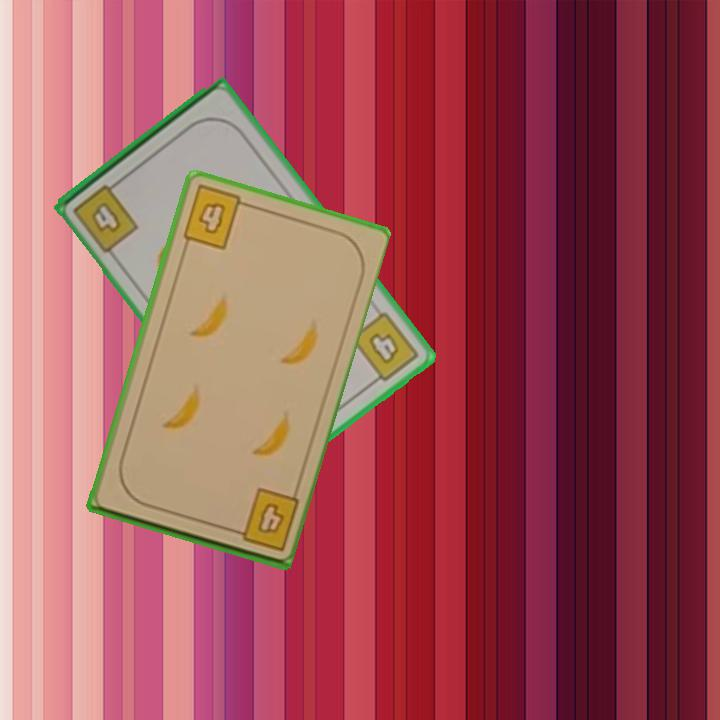4b: (347, 308, 422, 389), (69, 175, 142, 256), (225, 485, 301, 555), (178, 183, 253, 253)
